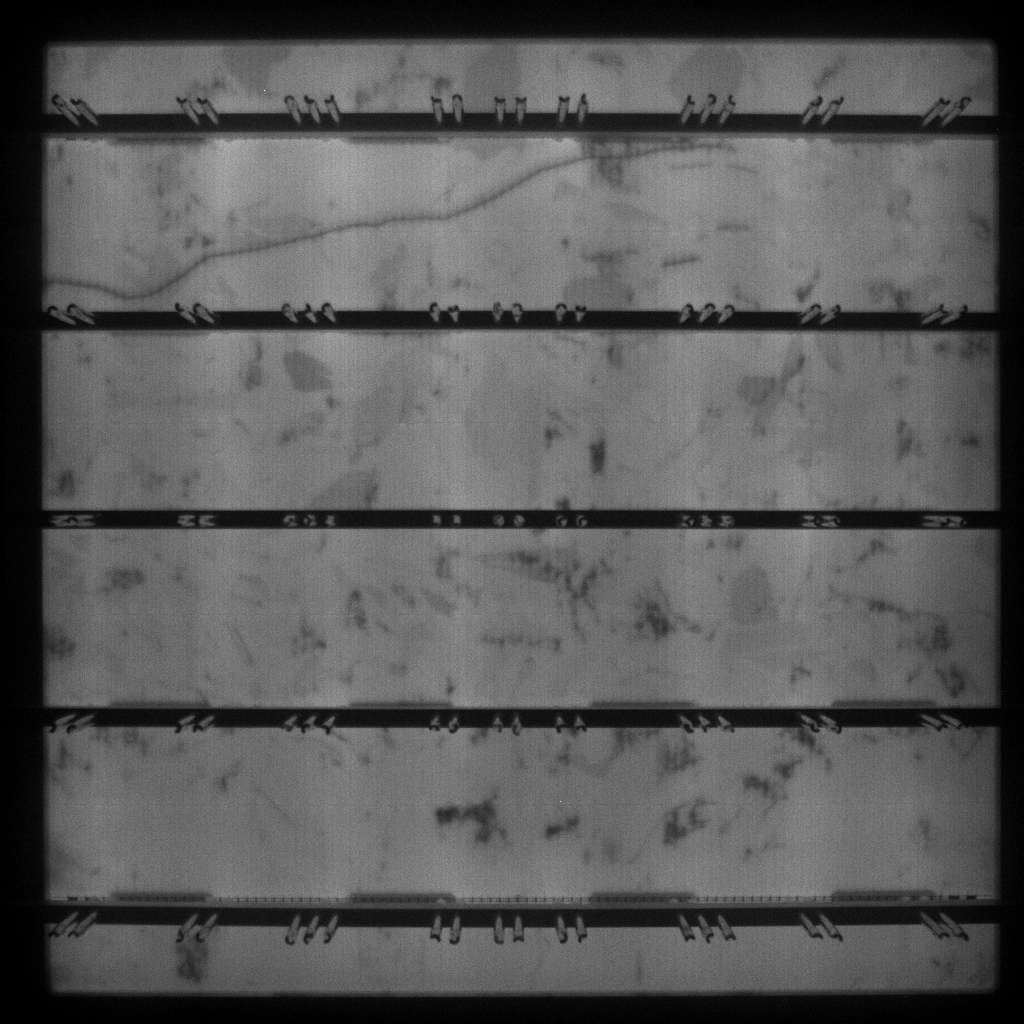crack: (47, 141, 732, 303)
